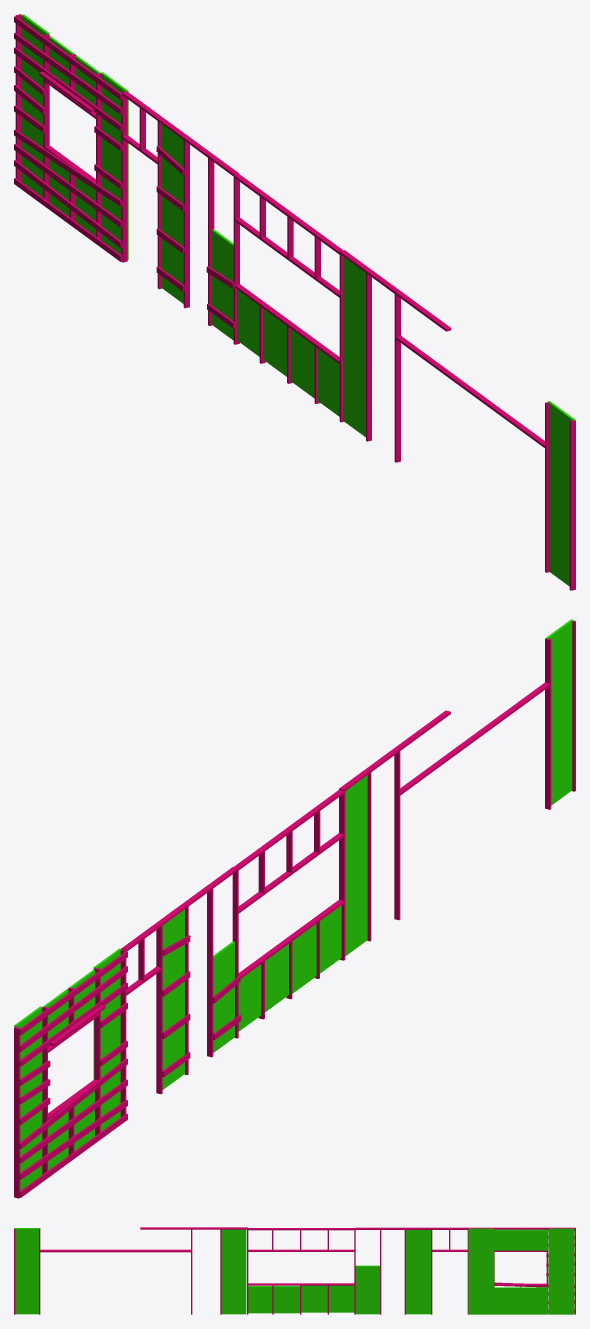
Rendered from BH05_Wall_01_Break_B.fbx.
3 views of the same model, one above another, from view 1: azimuth 30°, elevation 25°; view 2: azimuth 150°, elevation 25°; view 3: azimuth 270°, elevation 25° (orthographic). The views are drawn at different scales.
Visible parts, largest first — view 1: BH05_Wall_01_Break_B; view 2: BH05_Wall_01_Break_B; view 3: BH05_Wall_01_Break_B.
Boxes of the visible parts, box(x1,y1,x2,y2) form: BH05_Wall_01_Break_B: box(14, 14, 575, 590); BH05_Wall_01_Break_B: box(14, 619, 575, 1198); BH05_Wall_01_Break_B: box(14, 1227, 575, 1314).
Bounding box in the file's own units: 23.01 × 302 × 1786.
